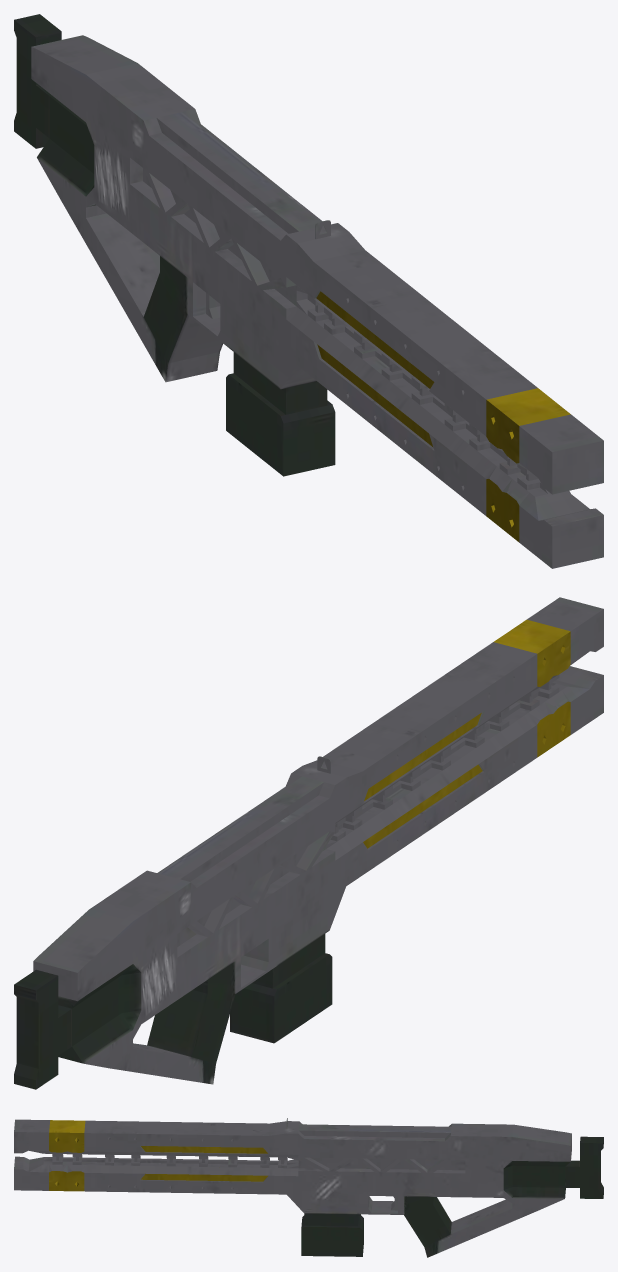
Rendered from w_rail.glb.
The picture shows the model from 3 angles, top to bottom: view 1: azimuth 30°, elevation 25°; view 2: azimuth 150°, elevation 25°; view 3: azimuth 270°, elevation 25°; orthographic projection. The views are drawn at different scales.
Visible parts, largest first — view 1: body; view 2: body; view 3: body.
Boxes of the visible parts, x1,y1,x2,y2 form: body: (14,14,603,568); body: (14,597,603,1089); body: (14,1118,603,1257).
Size of the model in its own units: 0.1688 by 0.4874 by 2.
Materials: 2 (2 with a texture image).
